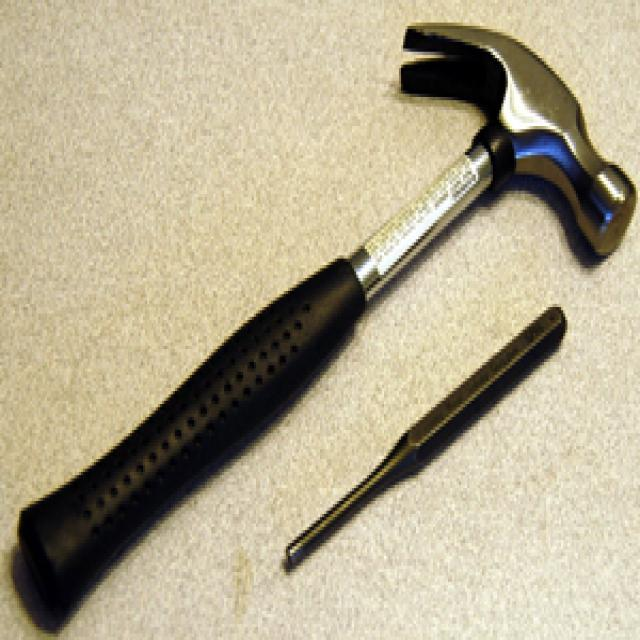hammer: (12, 9, 638, 582)
